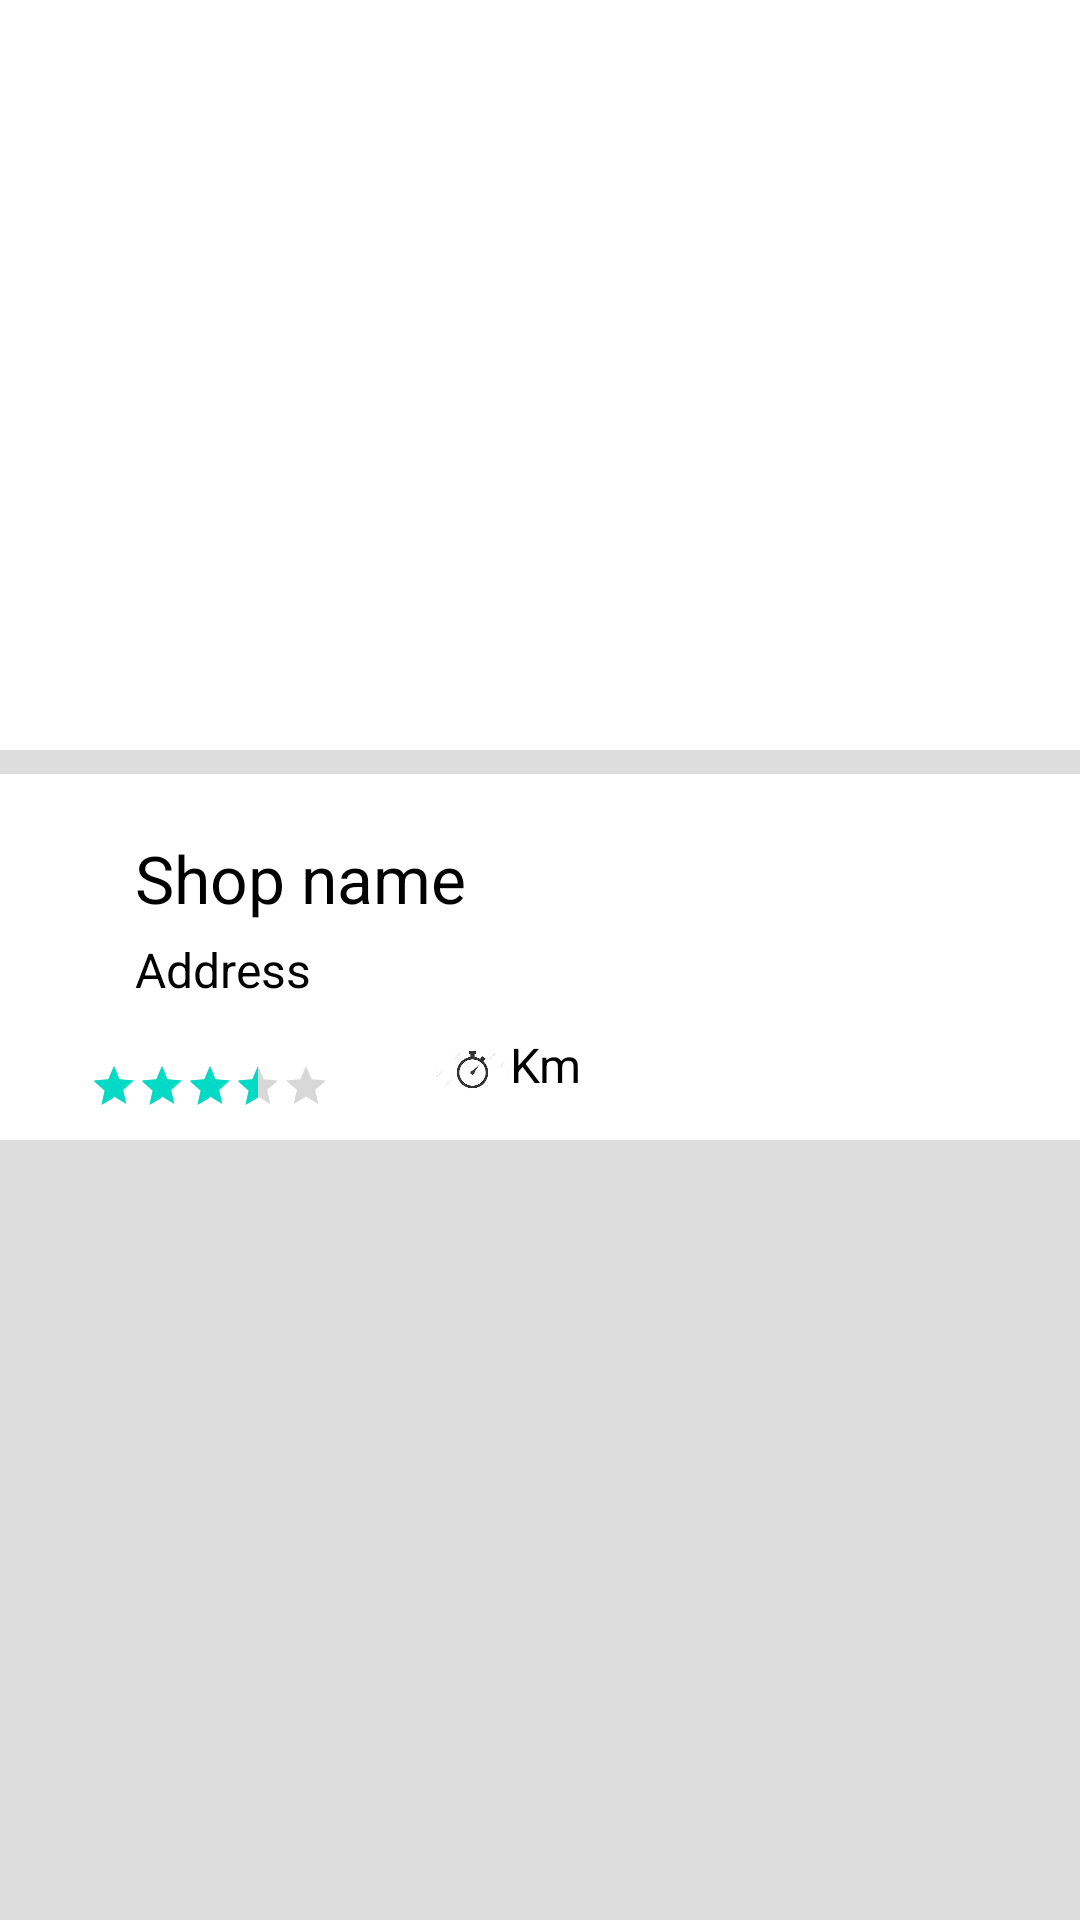

Icons on this 1080×1920 Android screen, each with the point to tap as point (x, y):
dong ho: point (466, 1069)
